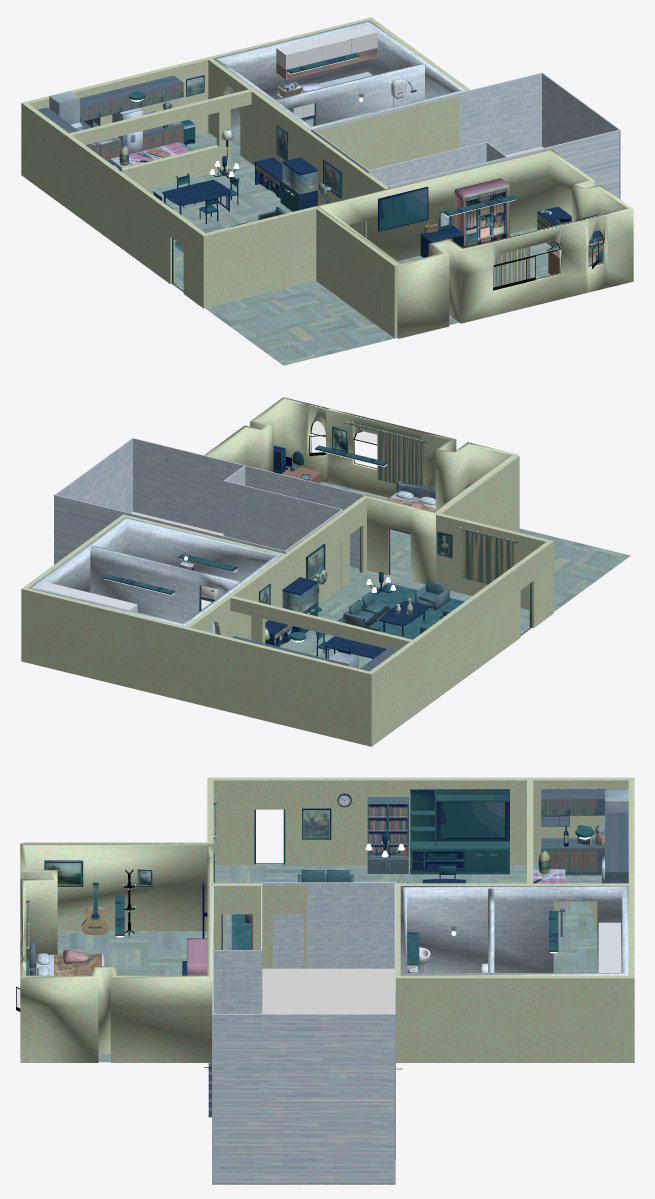
The model's file is dream2.glb.
3 views of the same model, one above another, from view 1: azimuth 30°, elevation 25°; view 2: azimuth 150°, elevation 25°; view 3: azimuth 270°, elevation 25° (orthographic). The views are drawn at different scales.
Visible parts, largest first — view 1: Estructura, Muebles, bathcab.002, Cube.019, bathcab.001, Paintings, Luz, ovencabinet, Cube.013, manta, hcabinet.004, hcabinet.003 (+1 smaller); view 2: Estructura, Muebles, Plane, Paintings, Luz, Cube.013; view 3: Estructura, Muebles, Cube.019_atlas_dormitorioelectro_0.001, Paintings, Luz, hcabinet, Bed, Plane, ovencabinet, bathcab.002, couch, hcabinet.003.
Boxes of the visible parts, x1=… form: Estructura: x1=21, y1=17, x2=633, y2=365; Muebles: x1=86, y1=71, x2=602, y2=274; bathcab.002: x1=313, y1=26, x2=377, y2=70; Cube.019: x1=378, y1=186, x2=428, y2=231; bathcab.001: x1=276, y1=39, x2=321, y2=79; Paintings: x1=186, y1=75, x2=342, y2=198; Luz: x1=129, y1=91, x2=516, y2=216; ovencabinet: x1=49, y1=91, x2=82, y2=130; Cube.013: x1=282, y1=163, x2=317, y2=194; manta: x1=110, y1=142, x2=192, y2=168; hcabinet.004: x1=91, y1=90, x2=121, y2=116; hcabinet.003: x1=153, y1=75, x2=183, y2=101; Estructura: x1=21, y1=397, x2=630, y2=746; Muebles: x1=201, y1=451, x2=470, y2=659; Plane: x1=336, y1=582, x2=465, y2=639; Paintings: x1=259, y1=426, x2=452, y2=604; Luz: x1=183, y1=445, x2=395, y2=642; Cube.013: x1=282, y1=583, x2=317, y2=612; Estructura: x1=16, y1=777, x2=634, y2=1184; Muebles: x1=29, y1=789, x2=604, y2=975; Cube.019_atlas_dormitorioelectro_0.001: x1=438, y1=802, x2=505, y2=838; Paintings: x1=26, y1=808, x2=331, y2=975; Luz: x1=115, y1=827, x2=594, y2=937; hcabinet: x1=569, y1=789, x2=597, y2=815; Bed: x1=54, y1=954, x2=101, y2=975; Plane: x1=230, y1=914, x2=251, y2=949; ovencabinet: x1=599, y1=789, x2=628, y2=836; bathcab.002: x1=598, y1=943, x2=620, y2=972; couch: x1=301, y1=870, x2=350, y2=882; hcabinet.003: x1=605, y1=860, x2=628, y2=883.
Size of the model in its own units: 27.93 by 9.28 by 30.51.
47 materials, 43 textured.
